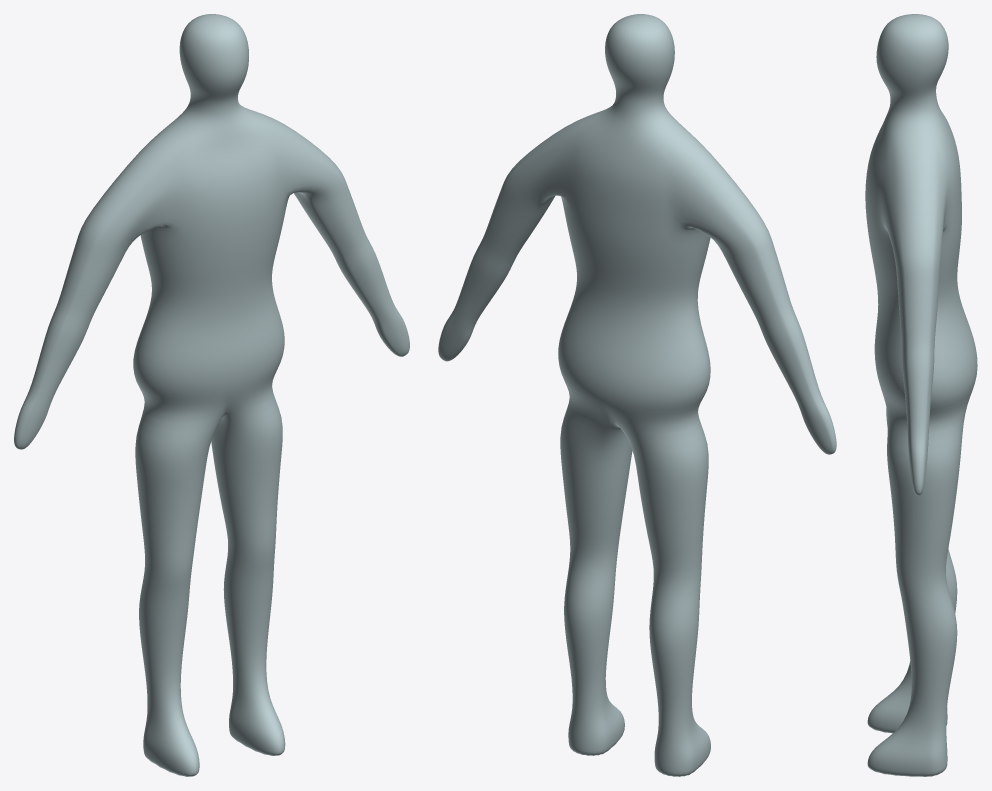
Rendered from mannequin-controls-v1.glb.
3 views of the same model, side by side, from view 1: azimuth 30°, elevation 25°; view 2: azimuth 150°, elevation 25°; view 3: azimuth 270°, elevation 25° (orthographic).
Parts seen in each view (by area): view 1: D01 Neutral; view 2: D01 Neutral; view 3: D01 Neutral.
Part boxes in pixels (bbox=[...]): D01 Neutral: bbox=[14, 14, 409, 776]; D01 Neutral: bbox=[438, 14, 836, 776]; D01 Neutral: bbox=[865, 14, 977, 776].
Size of the model in its own units: 0.9594 by 1.7 by 0.2364.
